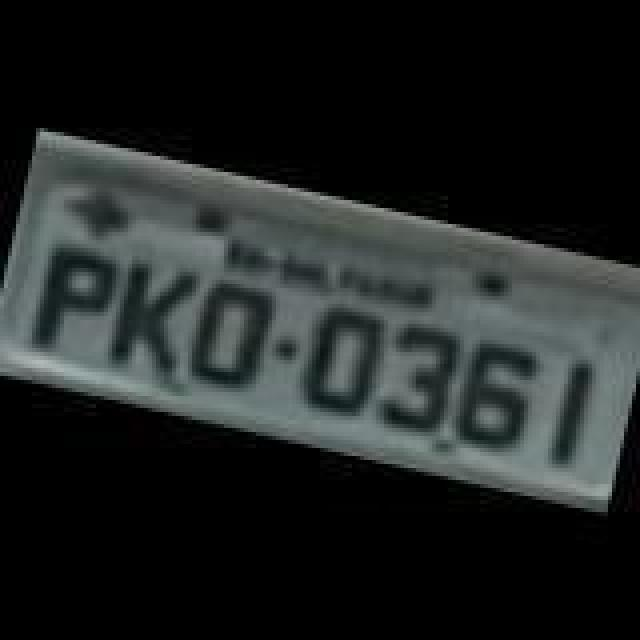1: (542, 354, 602, 470)
3: (368, 316, 464, 436)
6: (448, 336, 544, 456)
K: (100, 256, 204, 384)
O: (178, 274, 278, 398), (296, 300, 392, 420)
P: (22, 236, 122, 364)
